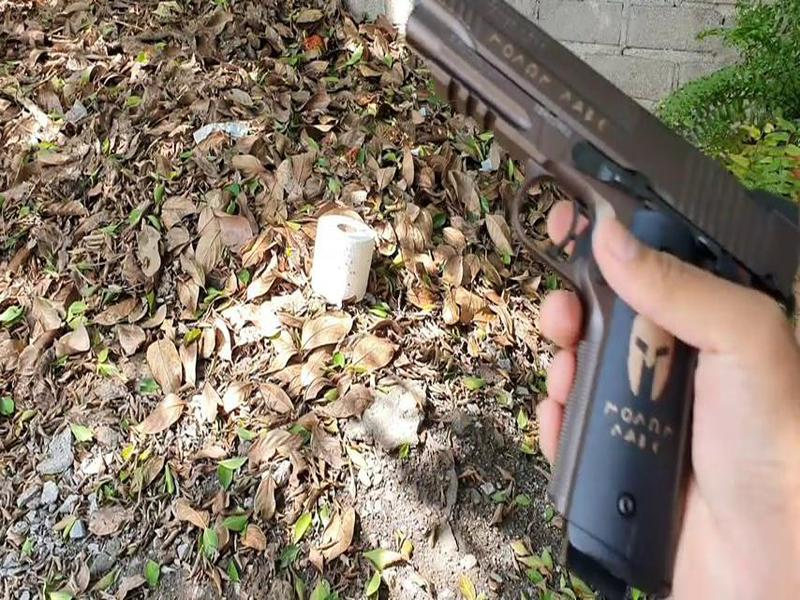Pistola: (281, 1, 758, 566)
